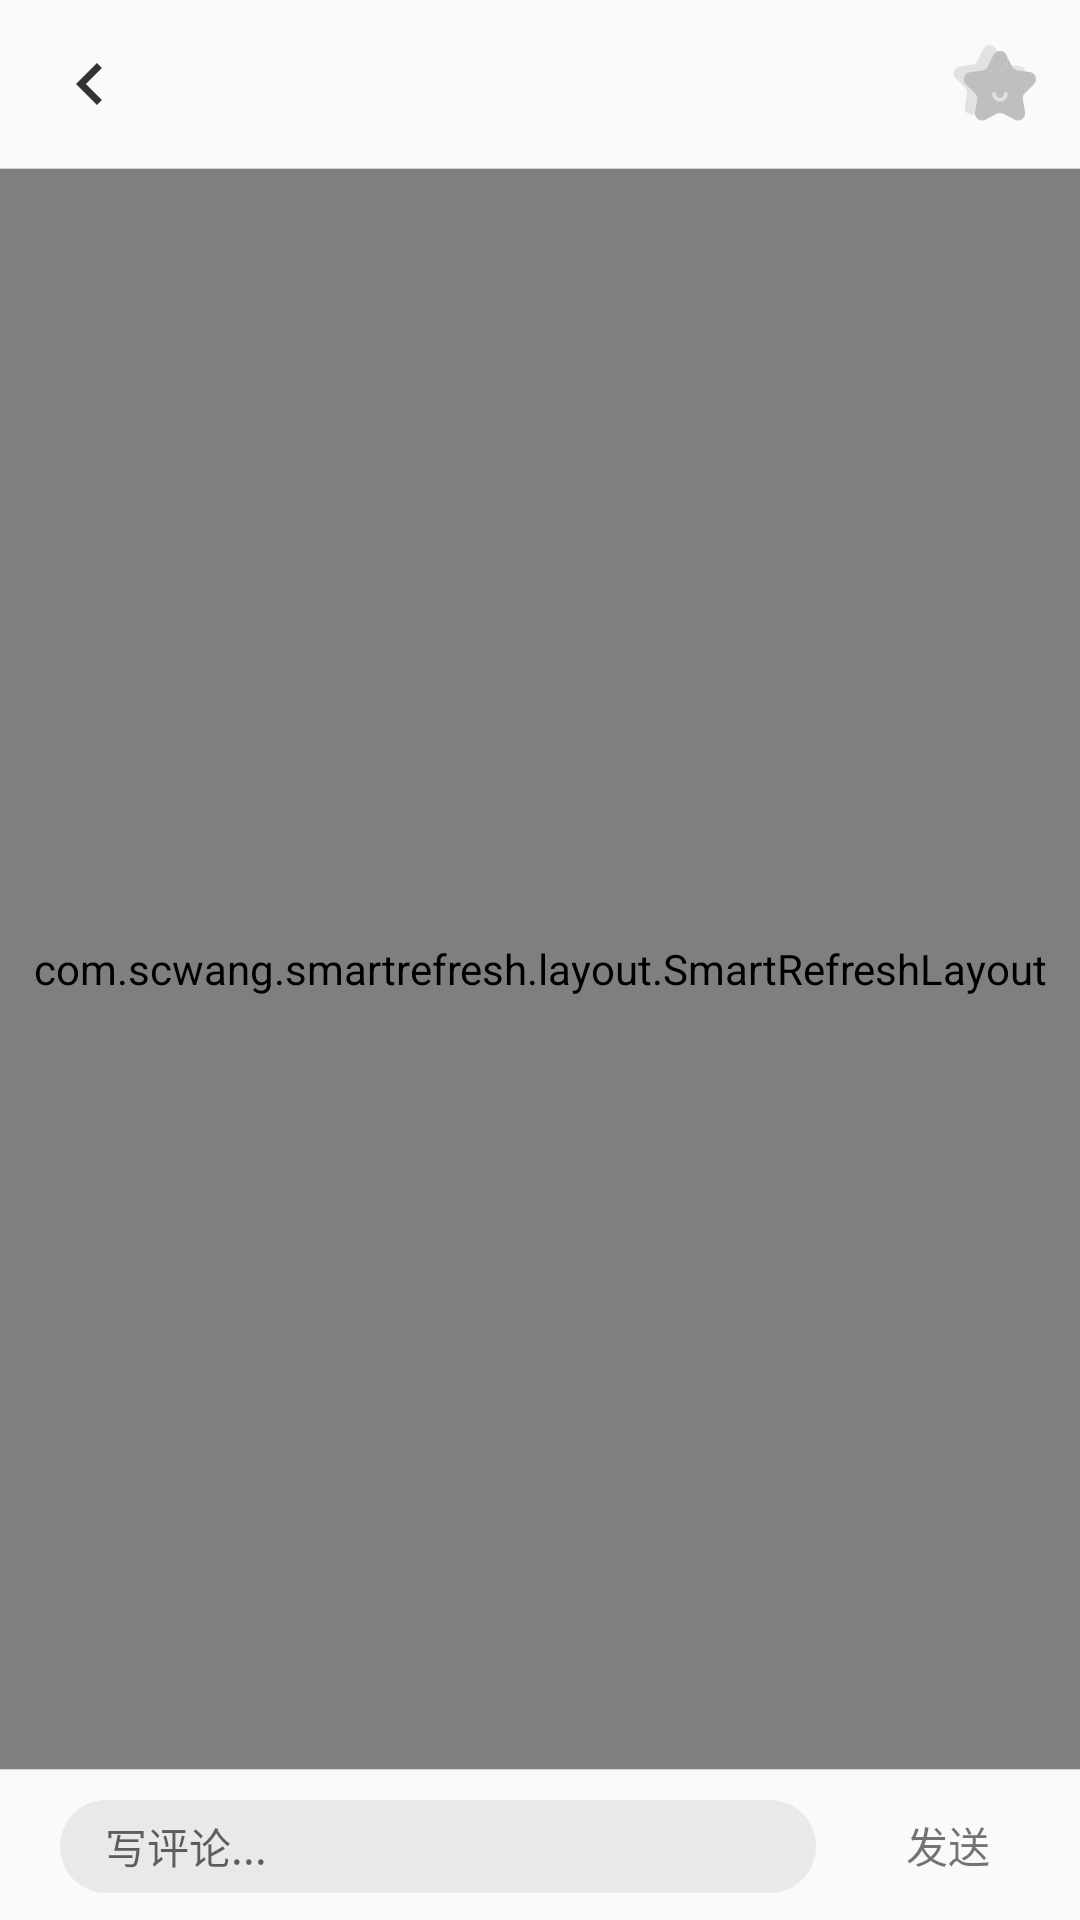

Icons on this 1080px×1920px Android screen, each with the point to tap as point (x, y):
back: point (89, 84)
not colloct: point (999, 86)
